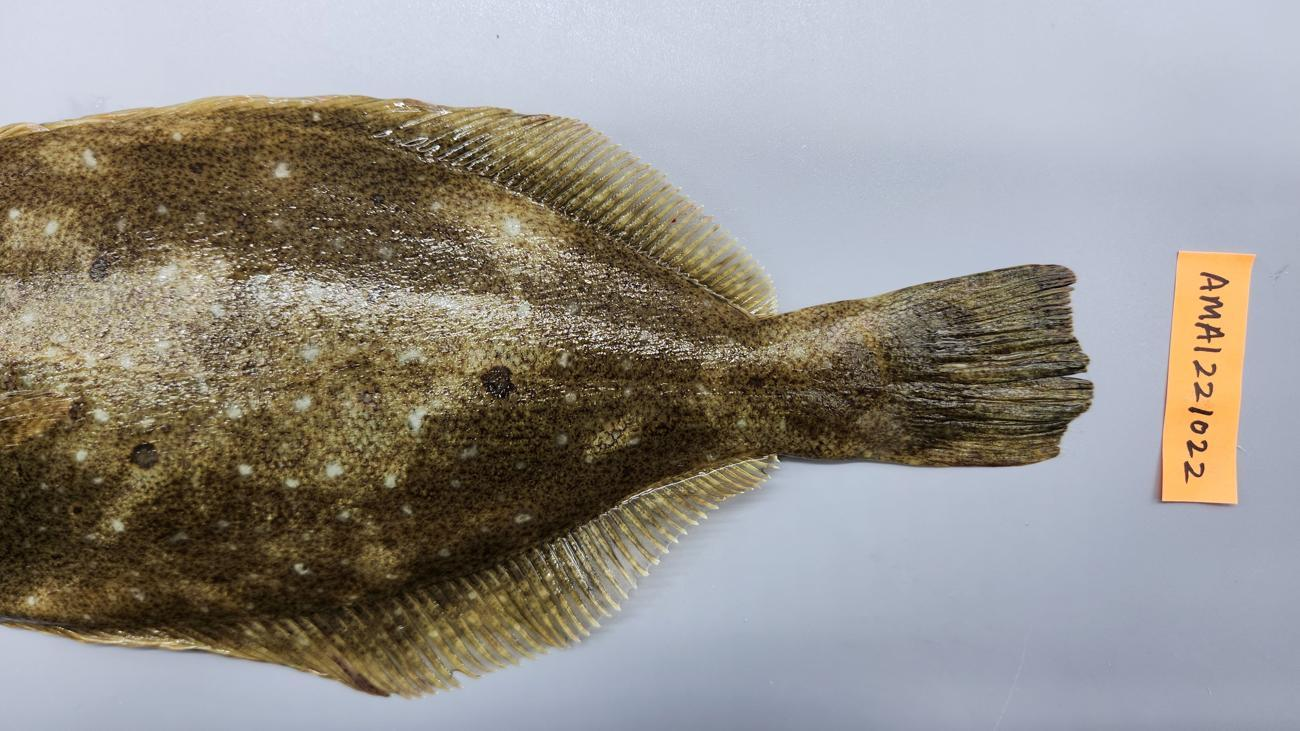MAFAH: (183, 610, 390, 697), (416, 550, 562, 661)
MAFDH: (666, 190, 716, 231)
